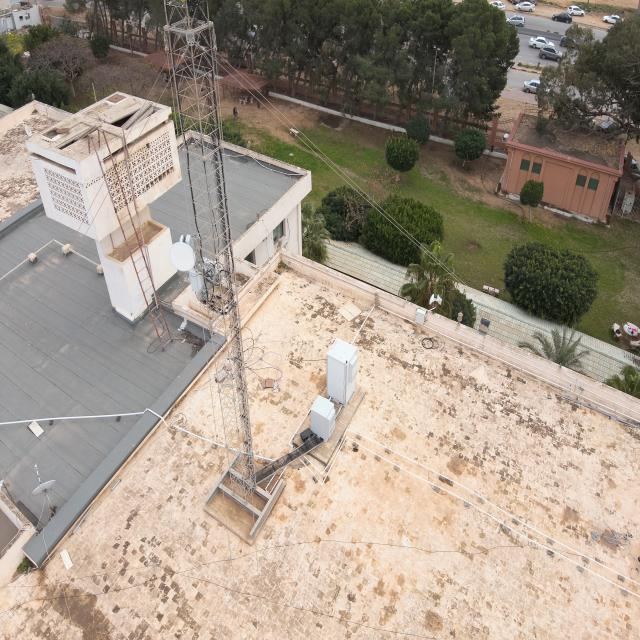microware-dish: (169, 234, 196, 271)
power-box: (189, 256, 218, 292)
